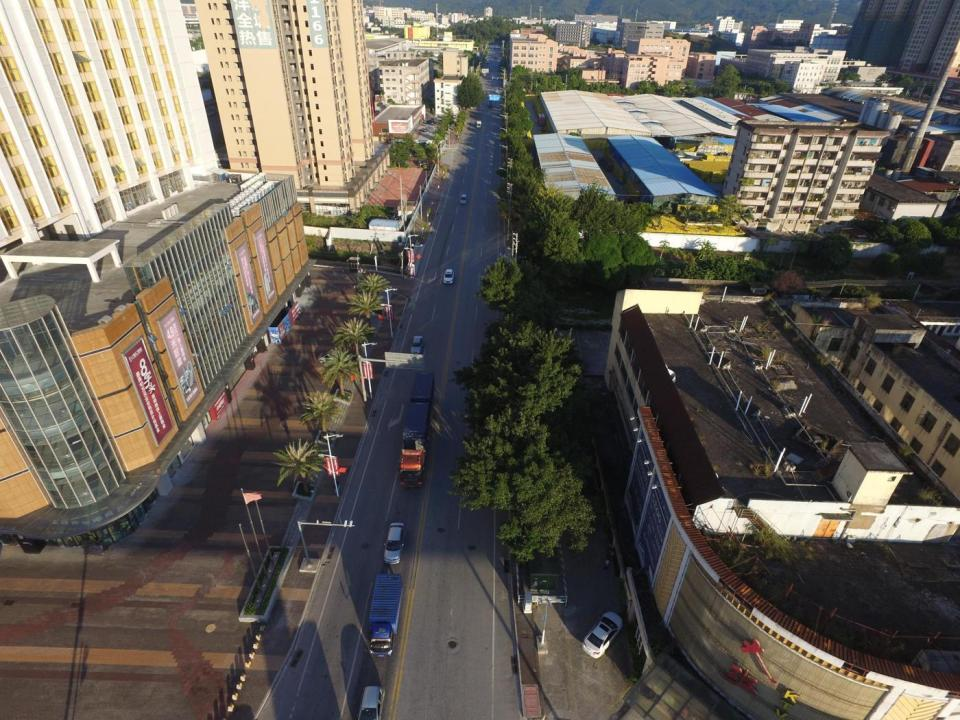car: (581, 610, 624, 659), (355, 684, 386, 720), (383, 522, 406, 564), (408, 335, 424, 355), (317, 350, 339, 364), (442, 268, 454, 284), (458, 194, 468, 205)
truck: (396, 371, 434, 488), (368, 573, 403, 657), (476, 120, 482, 128)
